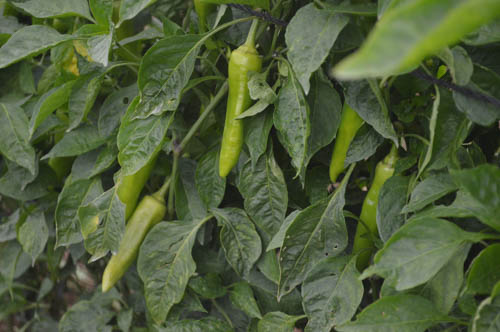ChiliPepper: (103, 195, 170, 296), (218, 48, 260, 178), (355, 163, 399, 275), (113, 136, 157, 218), (325, 101, 365, 190)
